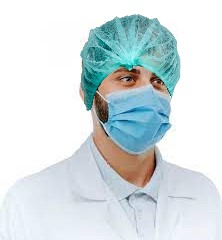with_mask_and_cap: (84, 18, 175, 153)
